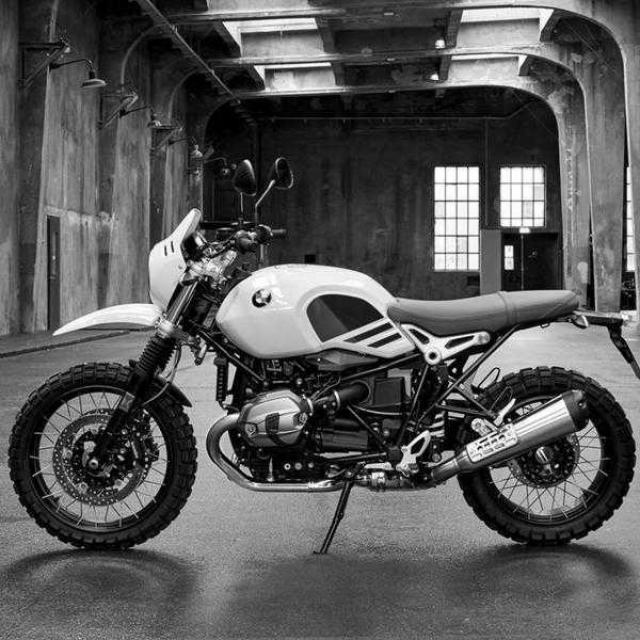Motorcycle: (10, 209, 635, 552)
